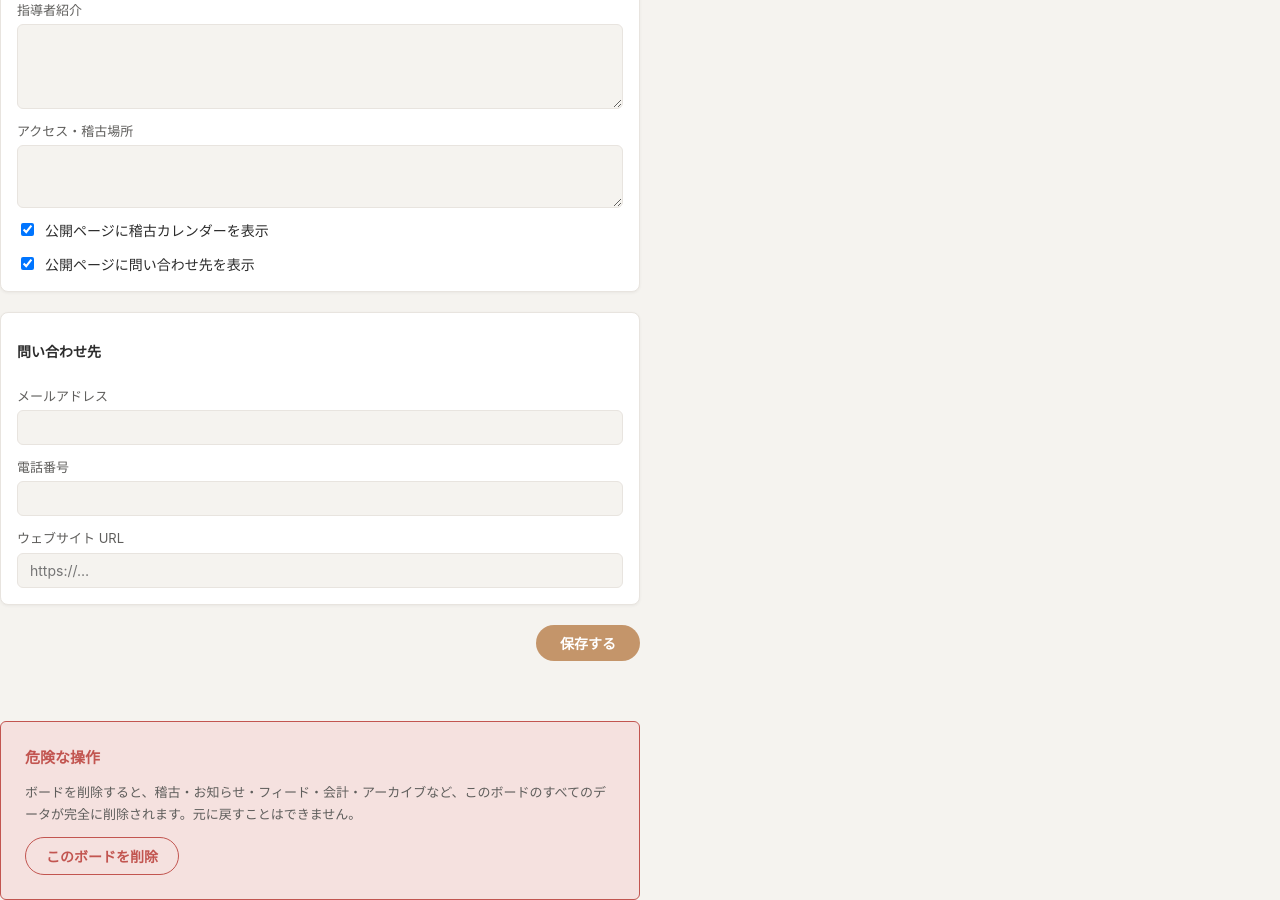
Test: SettingsView のボード削除 › 削除ダイアログに削除対象の集計が出る
(page scrolled)
Click the button "このボードを削除": click(102, 856) [25, 837, 179, 875]
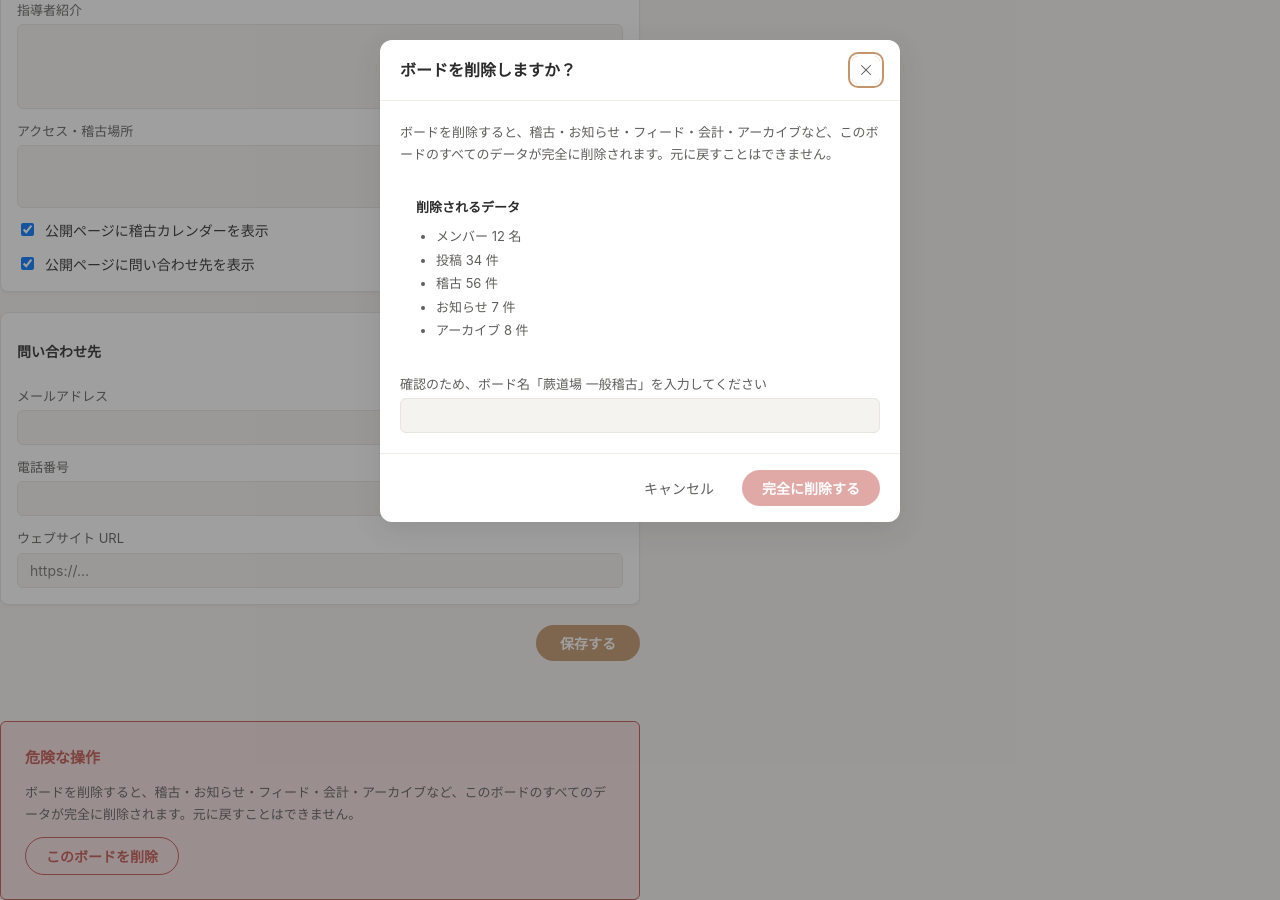
Expected: the list item "メンバー 12 名" is shown, [436, 228, 522, 244]
Expected: the list item "投稿 34 件" is shown, [436, 252, 499, 268]
Expected: the list item "稽古 56 件" is shown, [436, 275, 498, 291]
